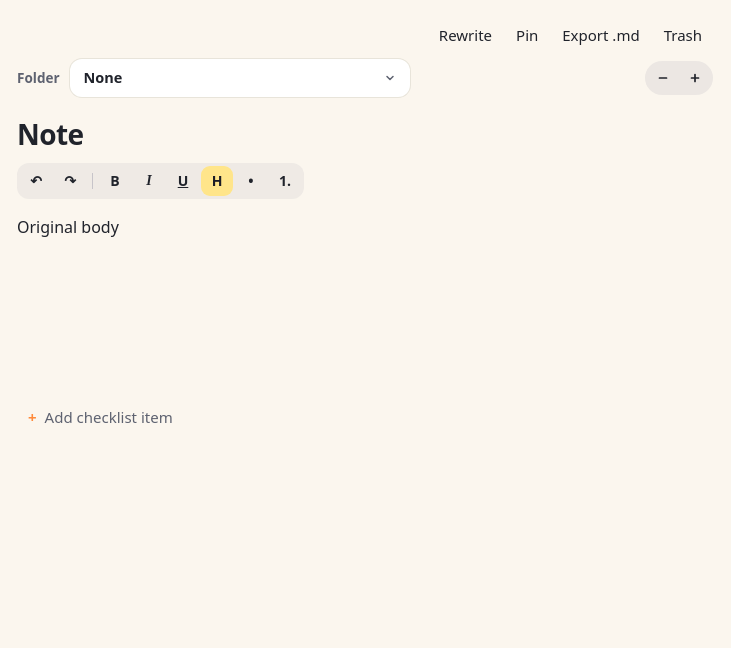
Test: opens an inline instruction form and supports custom requests with undo
This screenshot has width=731, height=648.
Click the button "Rewrite" at {"x": 465, "y": 35}, box 428,17 -> 503,53
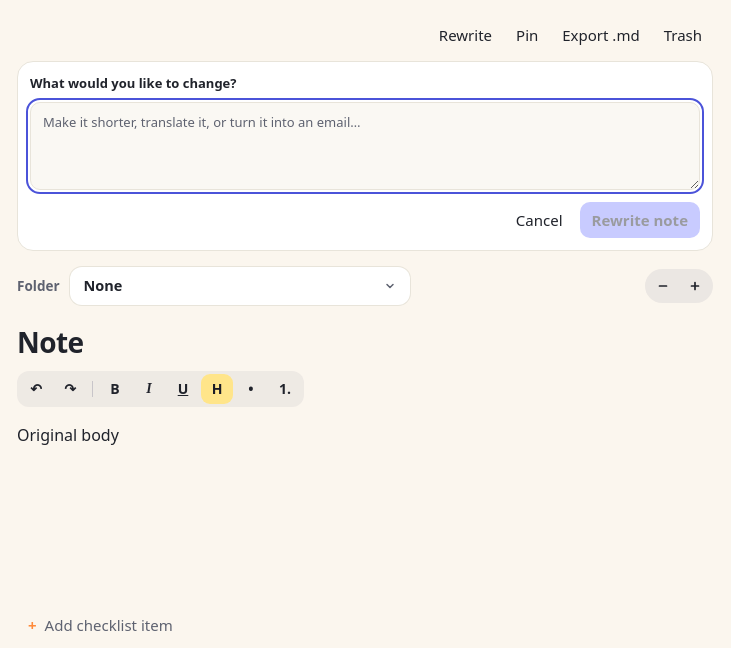
Expected: the text box named "Rewrite instruction" is shown
Expected: the submit button is disabled, 580,202 -> 700,238
Type "Make this a warm email in Spanish" into the text box named "Rewrite instruction" at {"x": 365, "y": 146}, box 30,102 -> 700,190
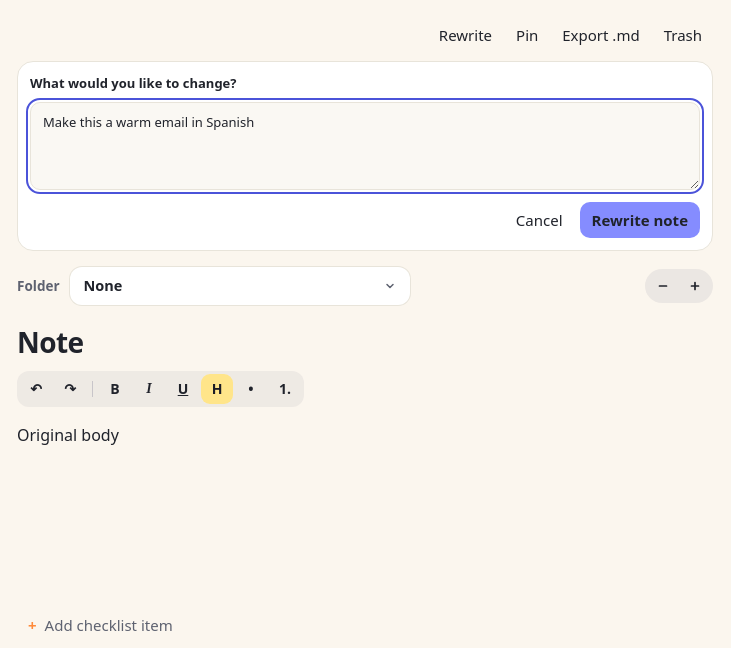
Submit the form named "Rewrite instruction", box 17,61 -> 713,251
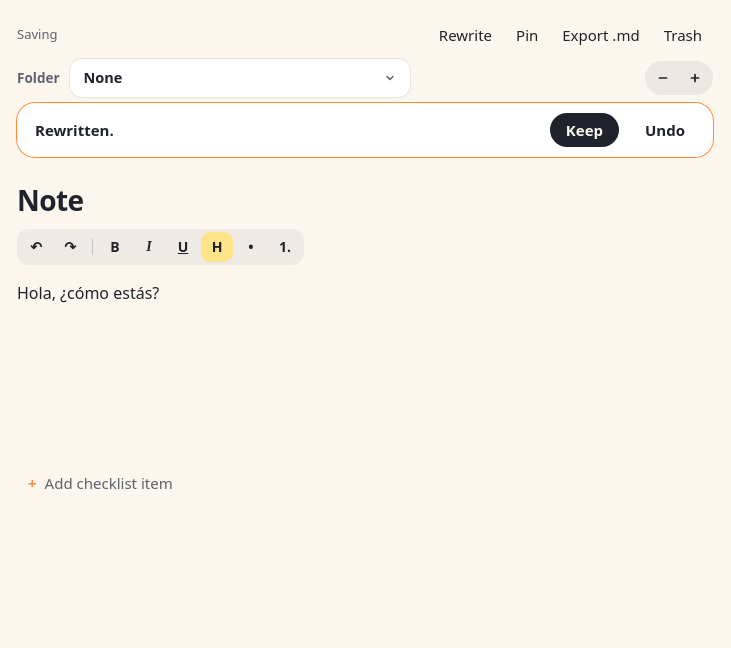
Expected: the field named "Body" reads "Hola, ¿cómo estás?", 17,282 -> 159,304
Click the button "Undo" at {"x": 665, "y": 130}, box 629,113 -> 701,147
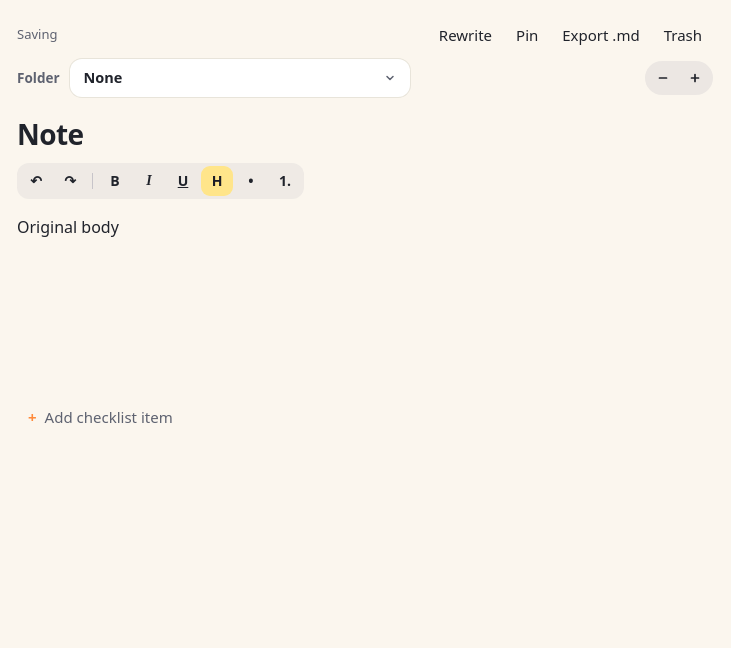
Expected: the field named "Body" reads "Original body", 17,216 -> 119,238
